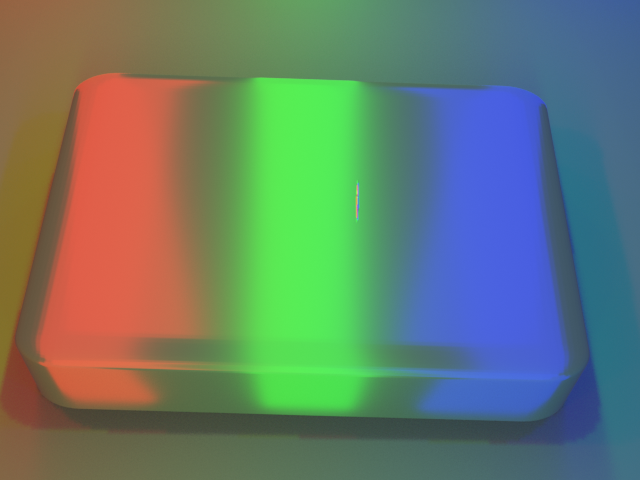scratch: (271, 148, 453, 249)
